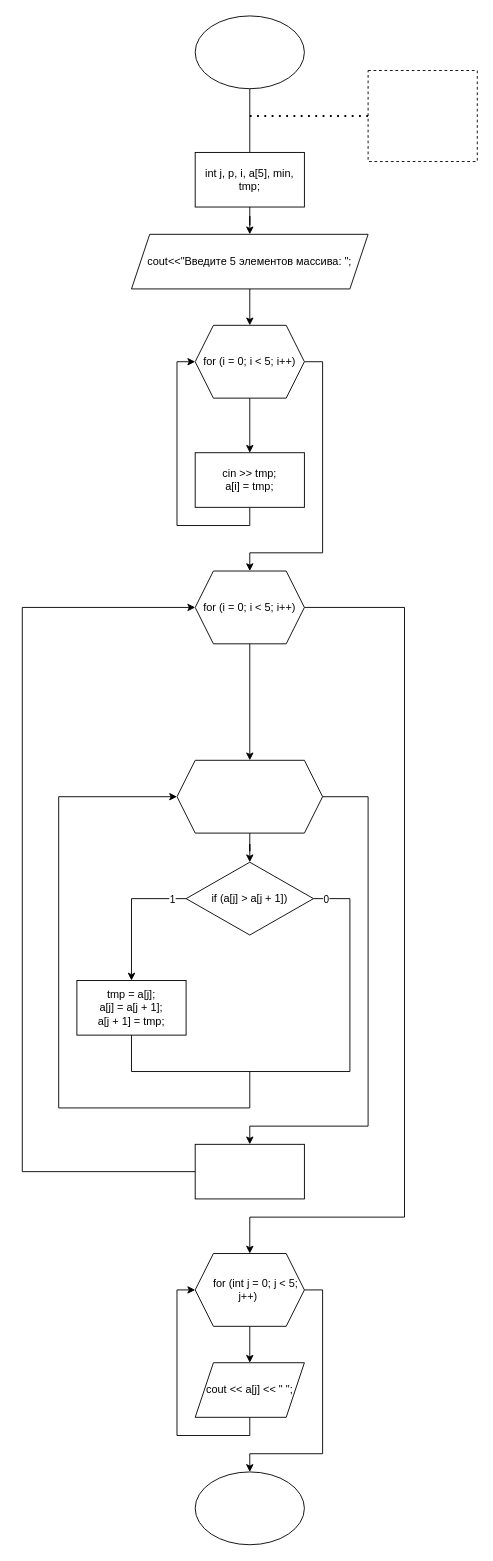
This 493x1561 diagram has some shape labels left out. The box of each missing label's shape, as (x1, y1, x2, y2) in pixels:
#include<iostream> using namespace std; int main(){ setlocale(LC_ALL, "rus"); }: (367, 70, 477, 162)
for (j = 0; j < 5 - 1; j++): (176, 759, 323, 833)
tmp = a[min]; a[min] = a[i]; a[i] = tmp;: (194, 1143, 304, 1199)
Конец: (194, 1471, 304, 1545)
Начало: (194, 15, 304, 89)
